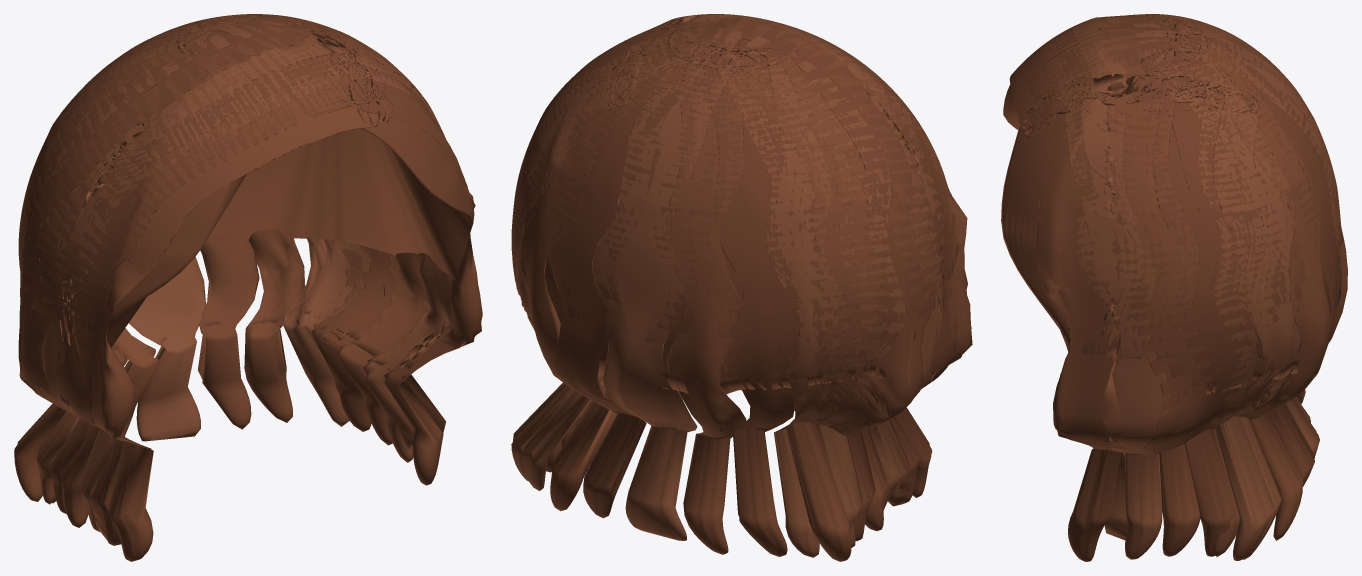
File: Feminine-curls-covered-hair236.glb
3 views of the same model, side by side, from view 1: azimuth 30°, elevation 25°; view 2: azimuth 150°, elevation 25°; view 3: azimuth 270°, elevation 25° (orthographic). The views are drawn at different scales.
Parts seen in each view (by area): view 1: 226 hair / Hair / sculpted 0.001, 226 hair / Hair / sculpted 1.002, 226 hair / Hair / sculpted 2.001, 226 hair / Hair / sculpted 1.001; view 2: 226 hair / Hair / sculpted 2.001, 226 hair / Hair / sculpted 0.001, 226 hair / Hair / sculpted 1.002, 226 hair / Hair / sculpted 1.001; view 3: 226 hair / Hair / sculpted 1.002, 226 hair / Hair / sculpted 2.001, 226 hair / Hair / sculpted 0.001, 226 hair / Hair / sculpted 1.001.
Boxes of the visible parts, left/top/right/bottom form: 226 hair / Hair / sculpted 0.001: left=14, top=14, right=430, bottom=561; 226 hair / Hair / sculpted 1.002: left=18, top=14, right=482, bottom=545; 226 hair / Hair / sculpted 2.001: left=18, top=14, right=452, bottom=531; 226 hair / Hair / sculpted 1.001: left=19, top=14, right=474, bottom=347; 226 hair / Hair / sculpted 2.001: left=511, top=14, right=945, bottom=557; 226 hair / Hair / sculpted 0.001: left=520, top=14, right=972, bottom=561; 226 hair / Hair / sculpted 1.002: left=513, top=14, right=957, bottom=556; 226 hair / Hair / sculpted 1.001: left=511, top=20, right=959, bottom=394; 226 hair / Hair / sculpted 1.002: left=1024, top=14, right=1340, bottom=561; 226 hair / Hair / sculpted 2.001: left=1041, top=14, right=1347, bottom=560; 226 hair / Hair / sculpted 0.001: left=1009, top=14, right=1331, bottom=556; 226 hair / Hair / sculpted 1.001: left=1001, top=14, right=1343, bottom=413.
Size of the model in its own units: 0.9645 by 1.07 by 0.7374.
